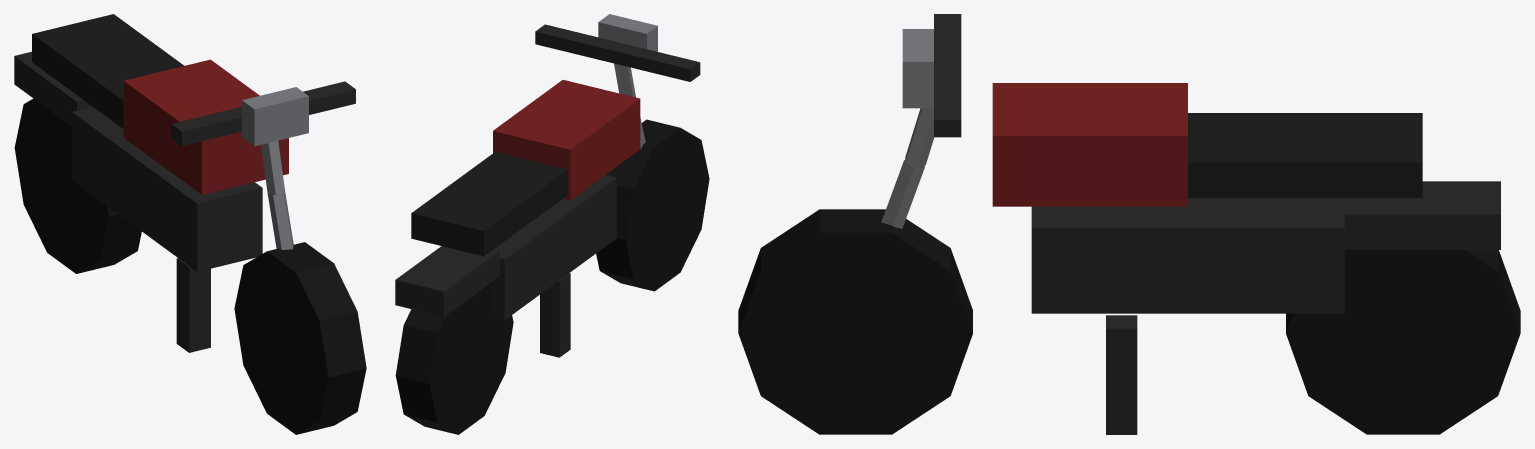
The model's file is parked_bike.glb.
3 views of the same model, side by side, from view 1: azimuth 30°, elevation 25°; view 2: azimuth 150°, elevation 25°; view 3: azimuth 270°, elevation 25° (orthographic). The views are drawn at different scales.
Visible parts, largest first — view 1: parked_bike; view 2: parked_bike; view 3: parked_bike.
Boxes of the visible parts, bbox=[...] form: parked_bike: bbox=[14, 14, 366, 434]; parked_bike: bbox=[395, 14, 709, 434]; parked_bike: bbox=[738, 14, 1520, 434].
Bounding box in the file's own units: 0.64 × 1.08 × 2.
